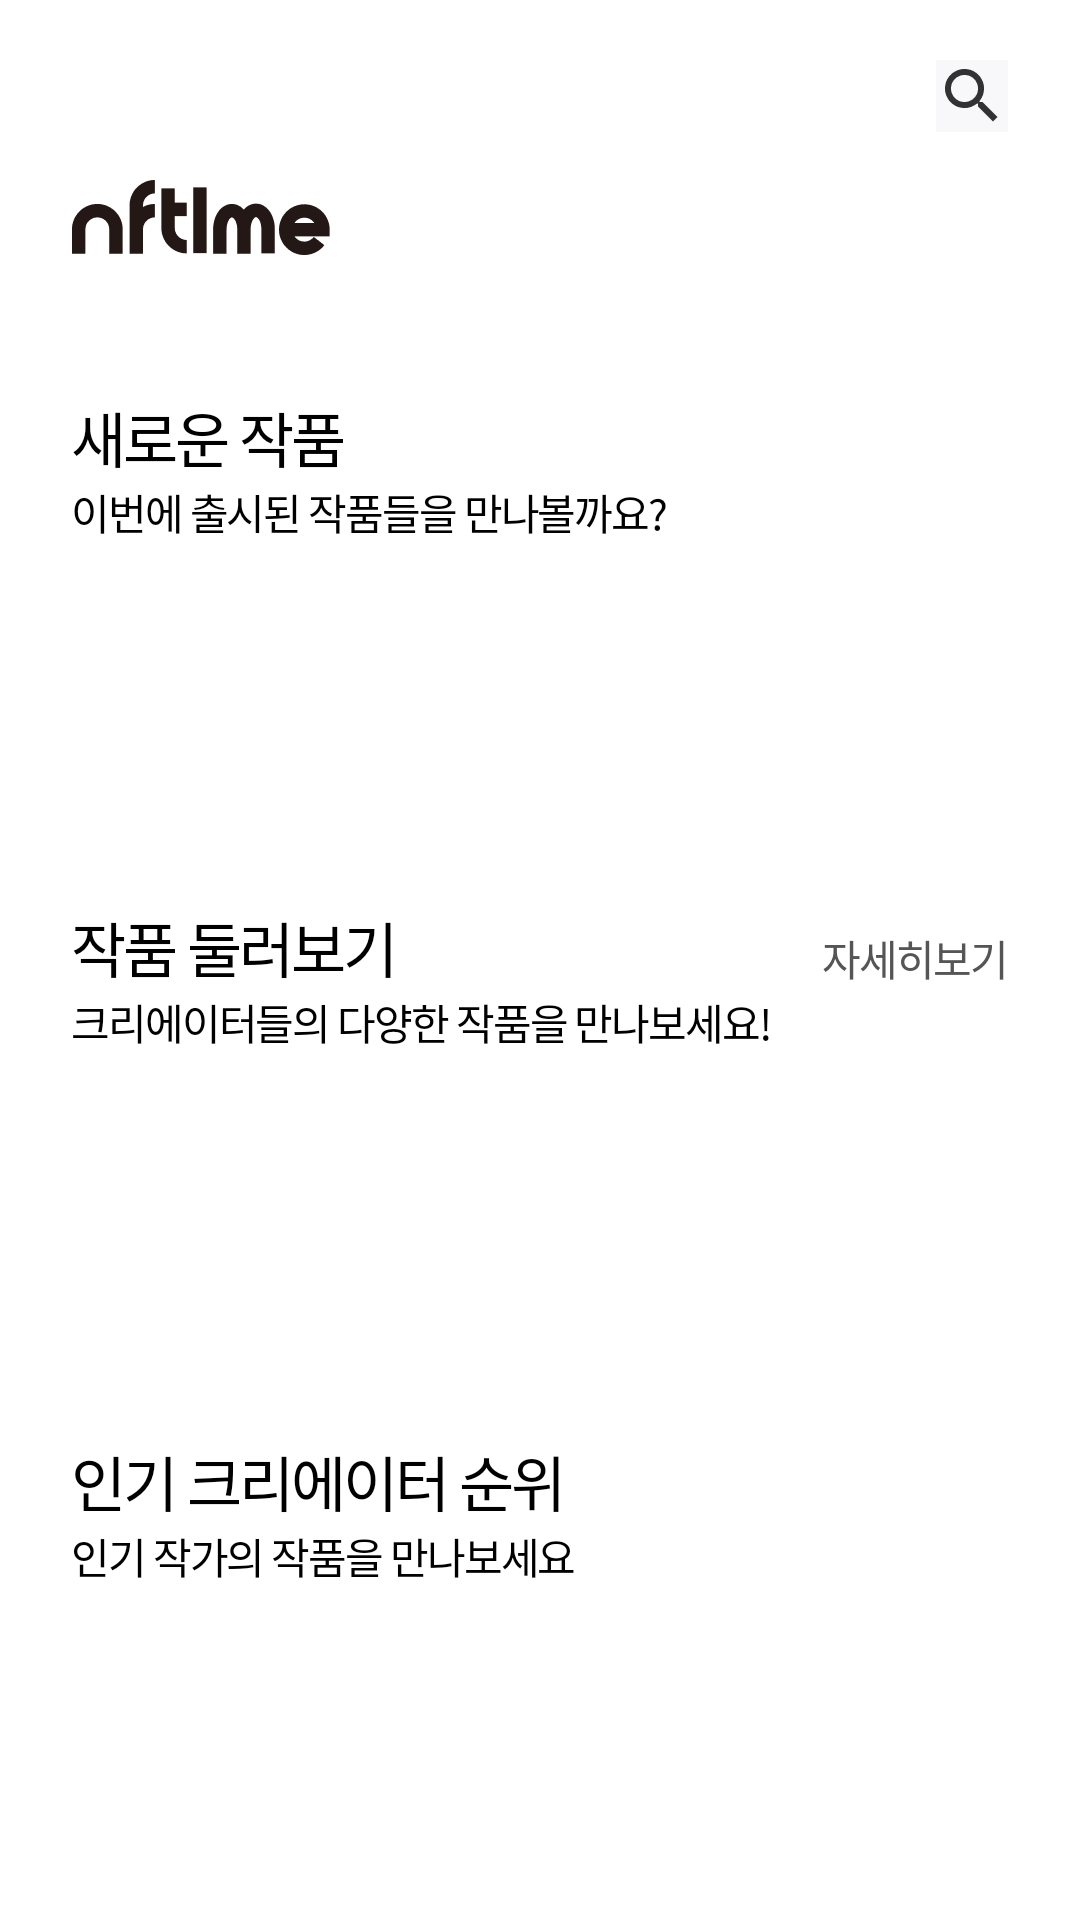

Screen size 1080 × 1920. Icon name, then its center in pixels as (x=x, y=y):
search: (x=971, y=95)
